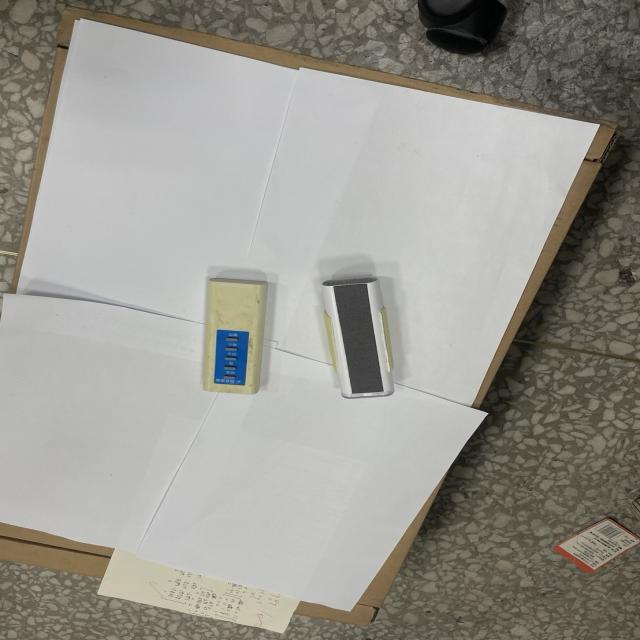remote: (320, 280, 402, 397), (200, 278, 264, 400)
